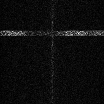wifi: (1, 30, 104, 35)
